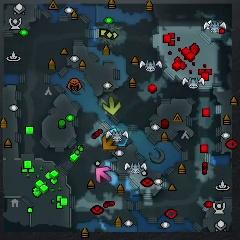x1: (95, 167, 111, 183)
x2: (103, 96, 120, 115)
x3: (109, 128, 118, 135)
x5: (102, 135, 118, 151)
